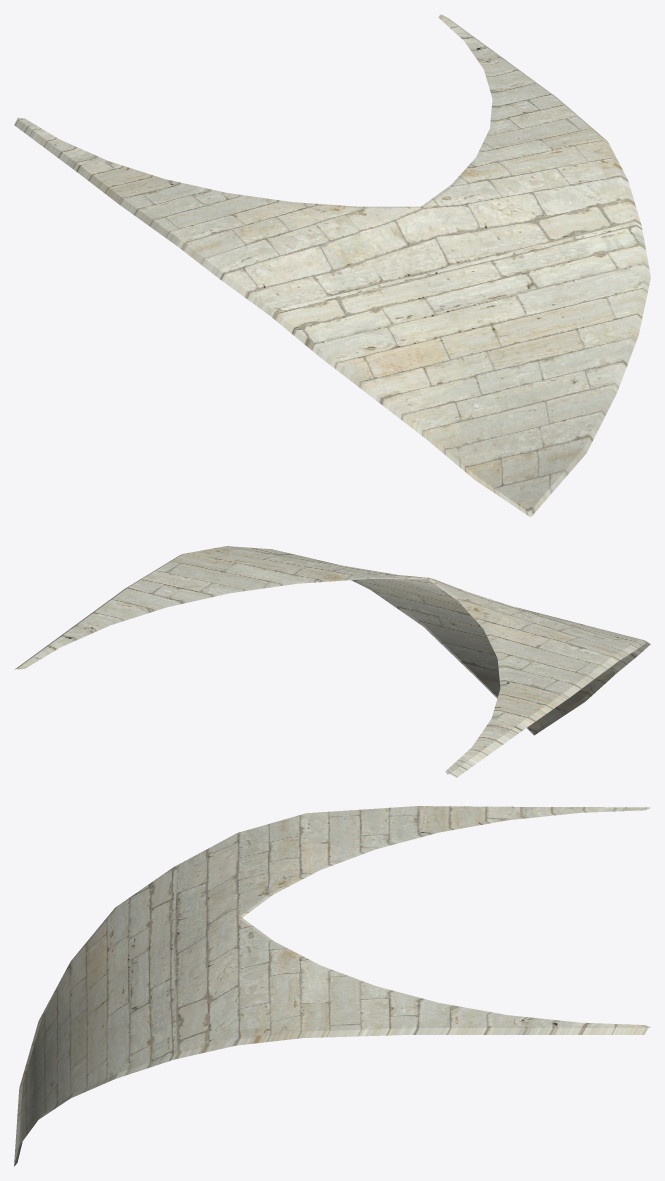
Rendered from Cath_rooftall_piec3.fbx.
3 views of the same model, one above another, from view 1: azimuth 30°, elevation 25°; view 2: azimuth 150°, elevation 25°; view 3: azimuth 270°, elevation 25° (orthographic). The views are drawn at different scales.
Parts seen in each view (by area): view 1: Cath_rooftall_piec3; view 2: Cath_rooftall_piec3; view 3: Cath_rooftall_piec3.
Boxes of the visible parts, x1=… form: Cath_rooftall_piec3: x1=14, y1=14, x2=650, y2=517; Cath_rooftall_piec3: x1=14, y1=546, x2=650, y2=777; Cath_rooftall_piec3: x1=14, y1=806, x2=650, y2=1166.
Size of the model in its own units: 748 by 380 by 885.
